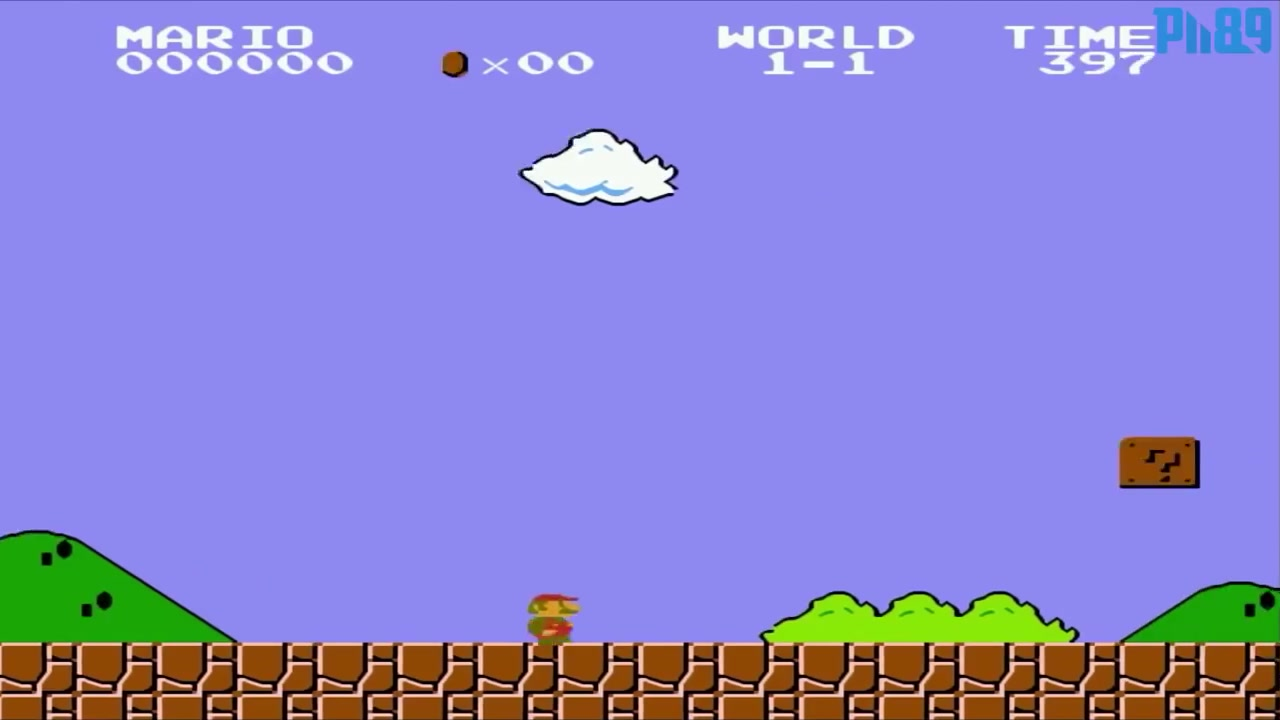mario: (512, 587, 588, 651)
